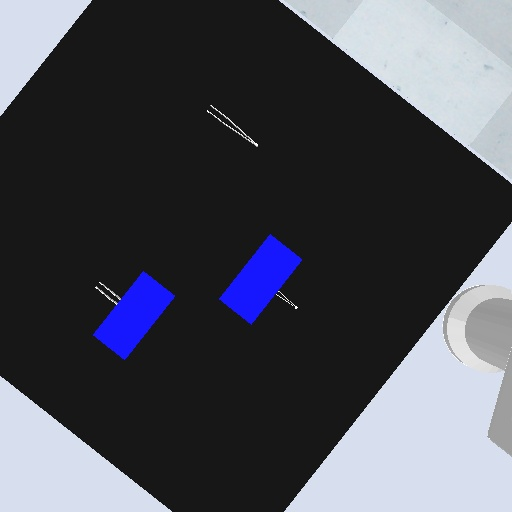pinza: (202, 103, 263, 151), (91, 280, 124, 306), (274, 288, 300, 313)
